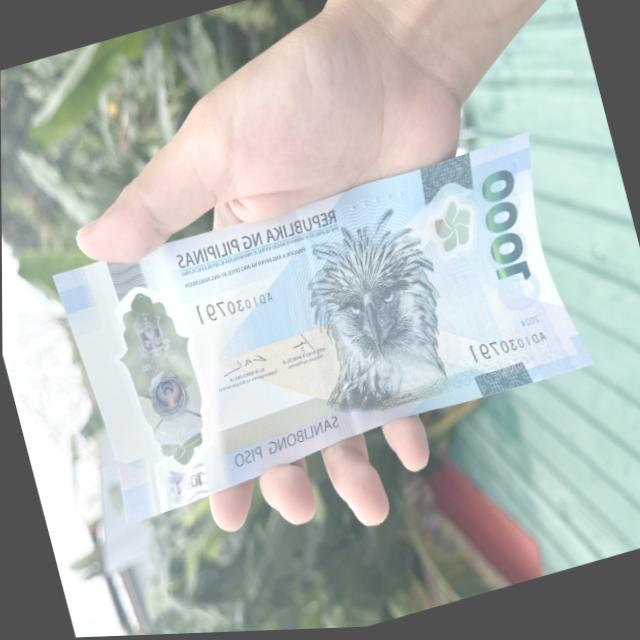clear_window: (76, 238, 237, 521)
eagle: (282, 202, 465, 433)
sampaguita: (421, 190, 490, 289)
security_thread: (274, 201, 355, 453)
serial_number: (178, 275, 284, 337), (462, 324, 549, 376)
